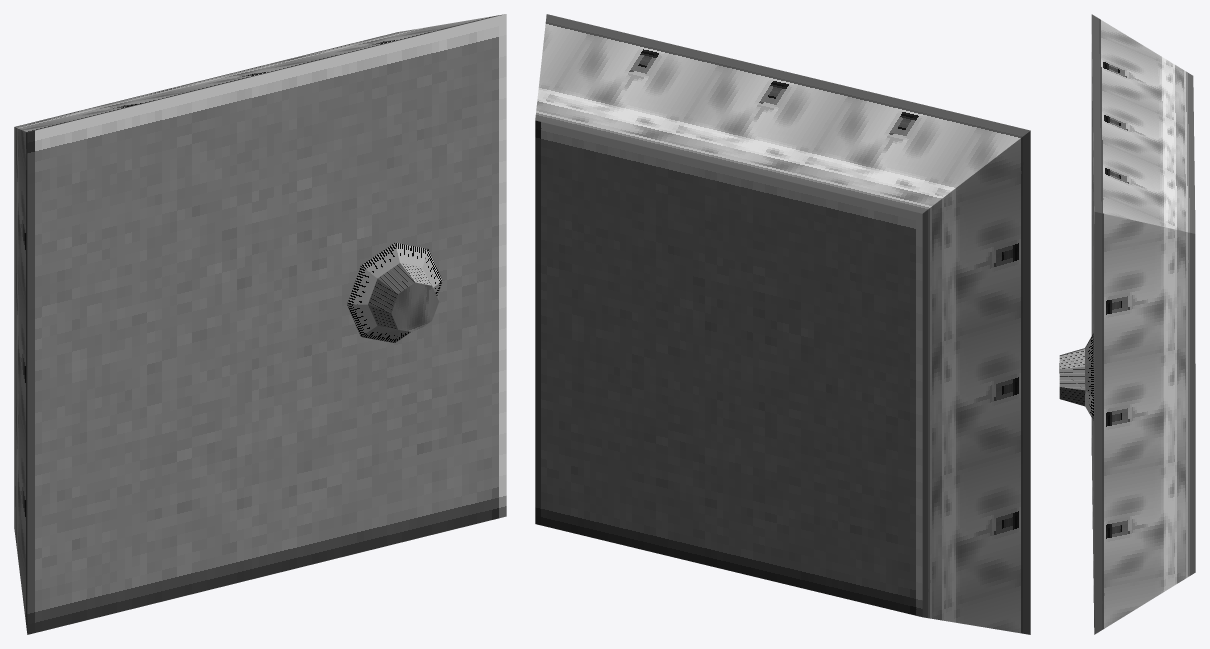
The model's file is metal_safe_door.glb.
3 renders of one model, left to right at view 1: azimuth 30°, elevation 25°; view 2: azimuth 150°, elevation 25°; view 3: azimuth 270°, elevation 25°, orthographic. The views are drawn at different scales.
Visible parts, largest first — view 1: Object; view 2: Object; view 3: Object.
Part boxes in pixels (x1=…): Object: x1=14, y1=14, x2=506, y2=634; Object: x1=535, y1=14, x2=1030, y2=634; Object: x1=1059, y1=14, x2=1195, y2=634.
Bounding box in the file's own units: 1.16 × 1.16 × 0.338.
12 materials, 12 textured.
